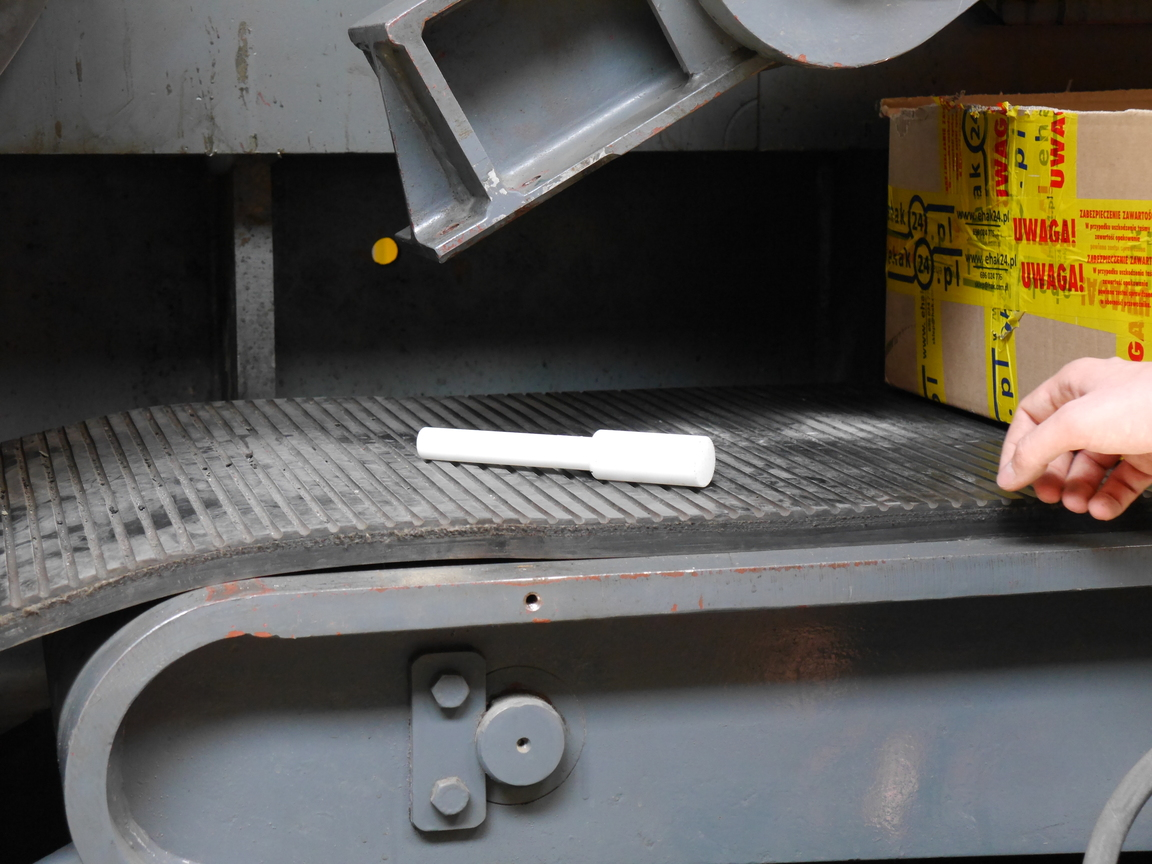cargo_g: (415, 423, 717, 490)
